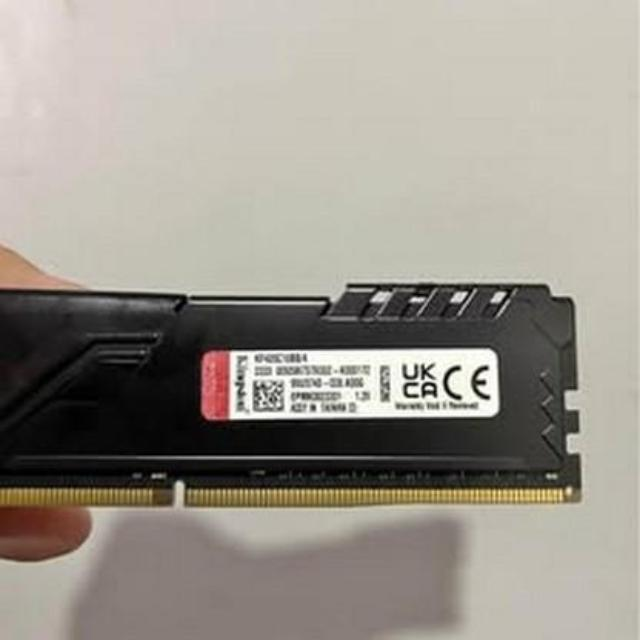RAM: (0, 272, 592, 518)
